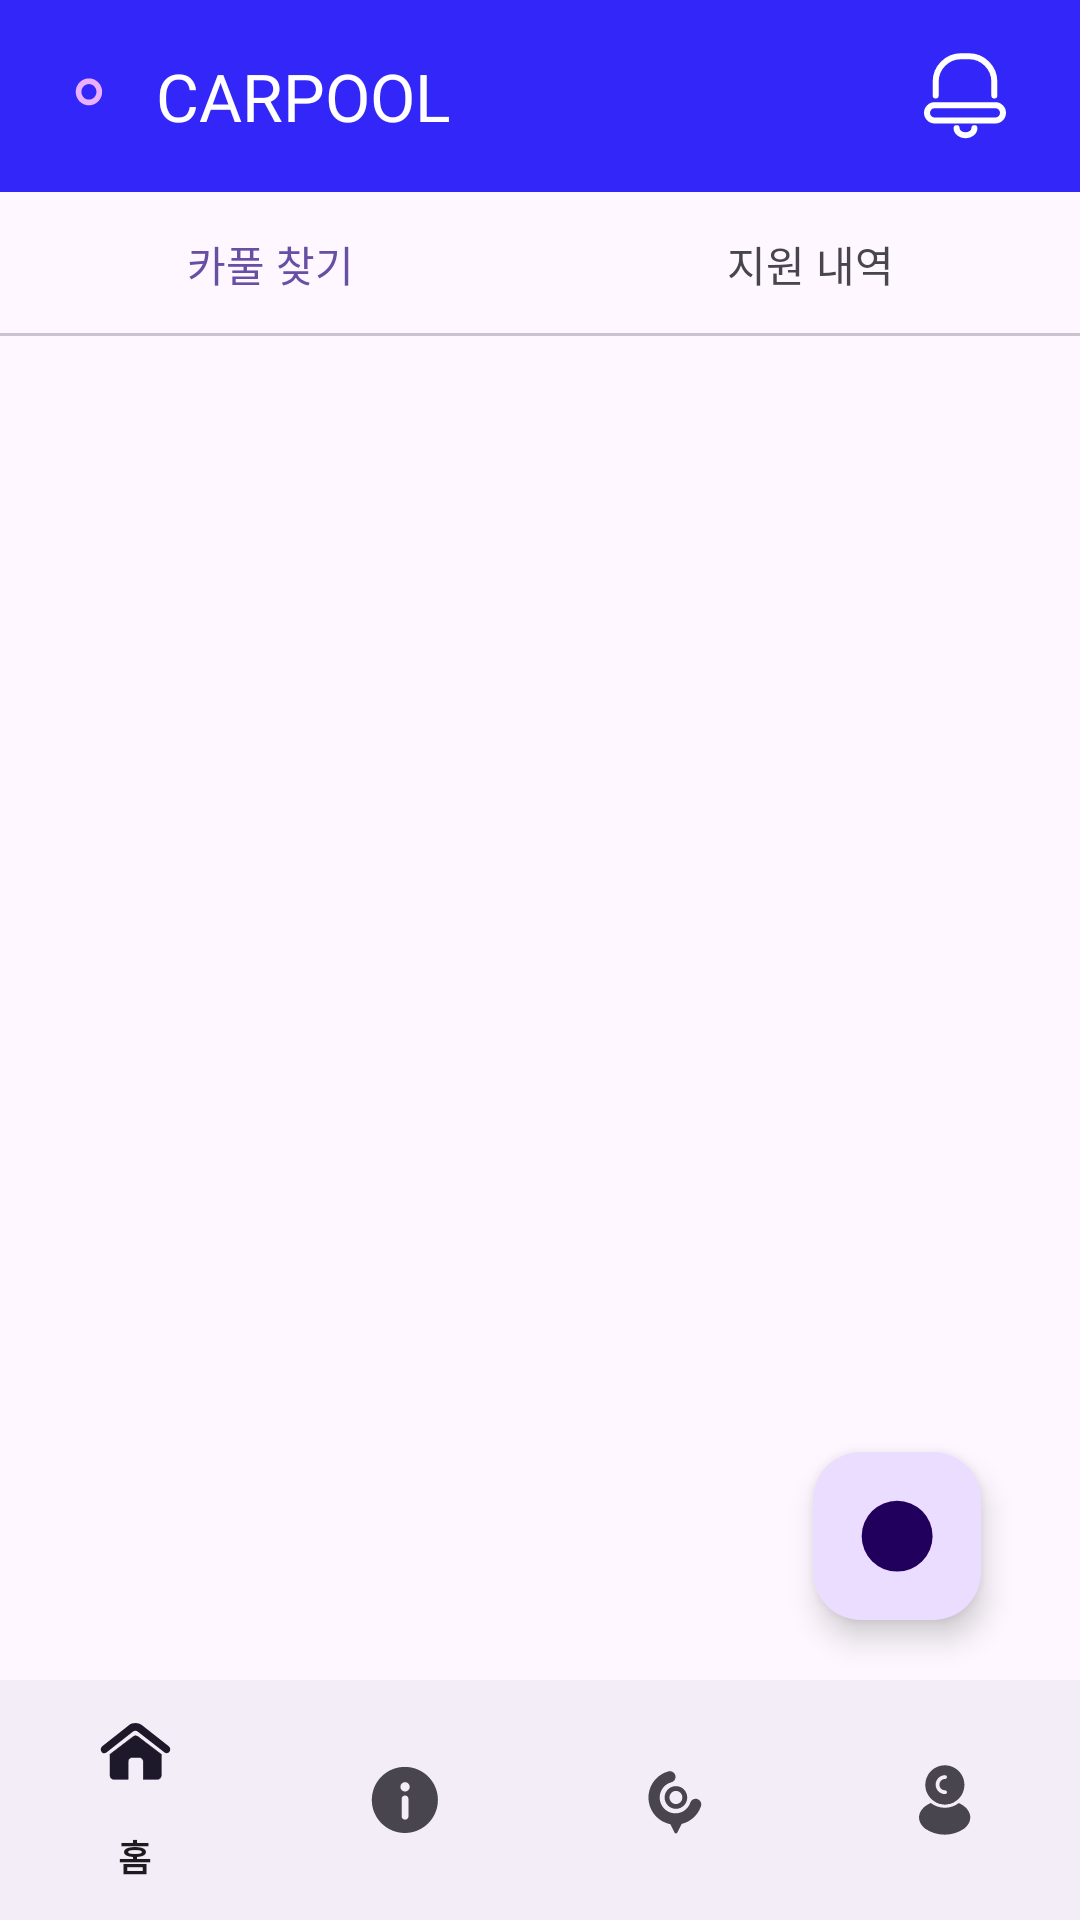

Icons on this 1080×1920 Android screen, each with its box as {"left": x1, "top": y1, "right": x2, "bottom": y2}:
custom fab: {"left": 813, "top": 1452, "right": 981, "bottom": 1620}
notification: {"left": 924, "top": 53, "right": 1006, "bottom": 139}
